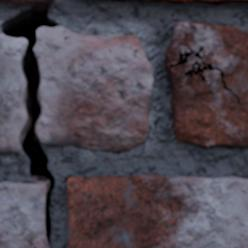brick: (67, 175, 247, 247), (165, 22, 247, 146), (0, 181, 48, 247), (150, 0, 247, 3), (0, 0, 53, 4)
broken_brick: (35, 25, 154, 152), (0, 31, 26, 152)
crack: (0, 2, 59, 245), (168, 45, 242, 106), (144, 134, 150, 140)
